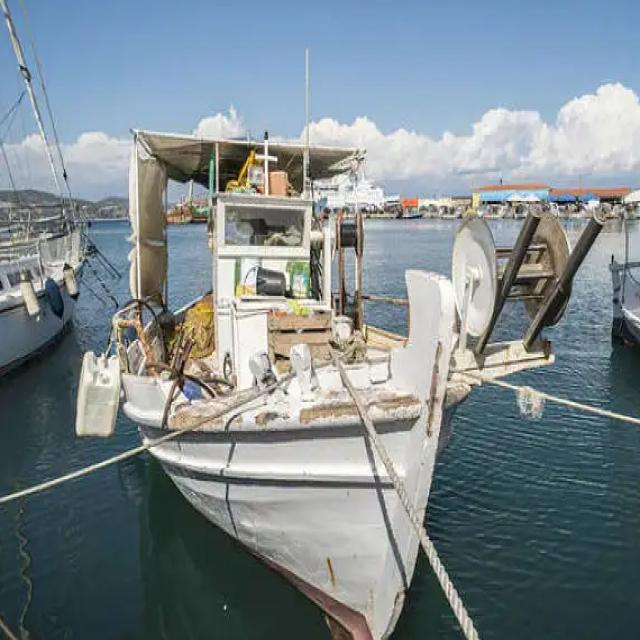fishing boat: (77, 116, 502, 640)
